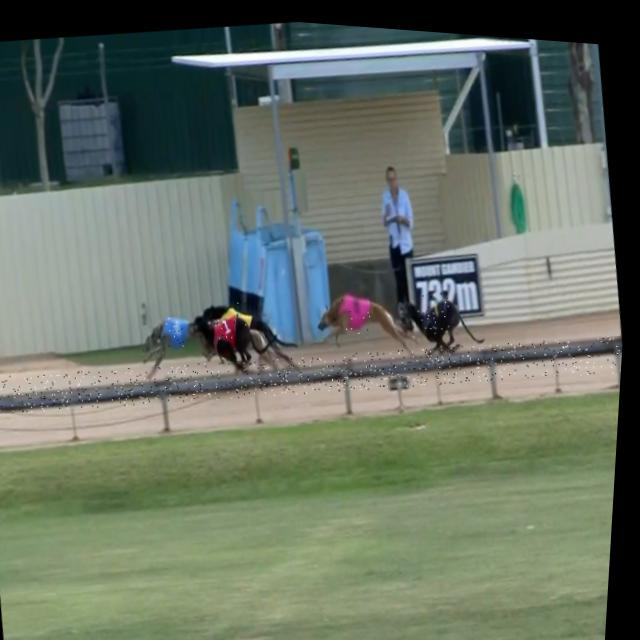dog_eight: (341, 283, 377, 331)
dog_five: (226, 296, 254, 330)
dog_four: (165, 312, 194, 346)
dog_one: (217, 311, 242, 343)
dog_seven: (415, 284, 456, 331)
rail: (0, 326, 624, 414)
